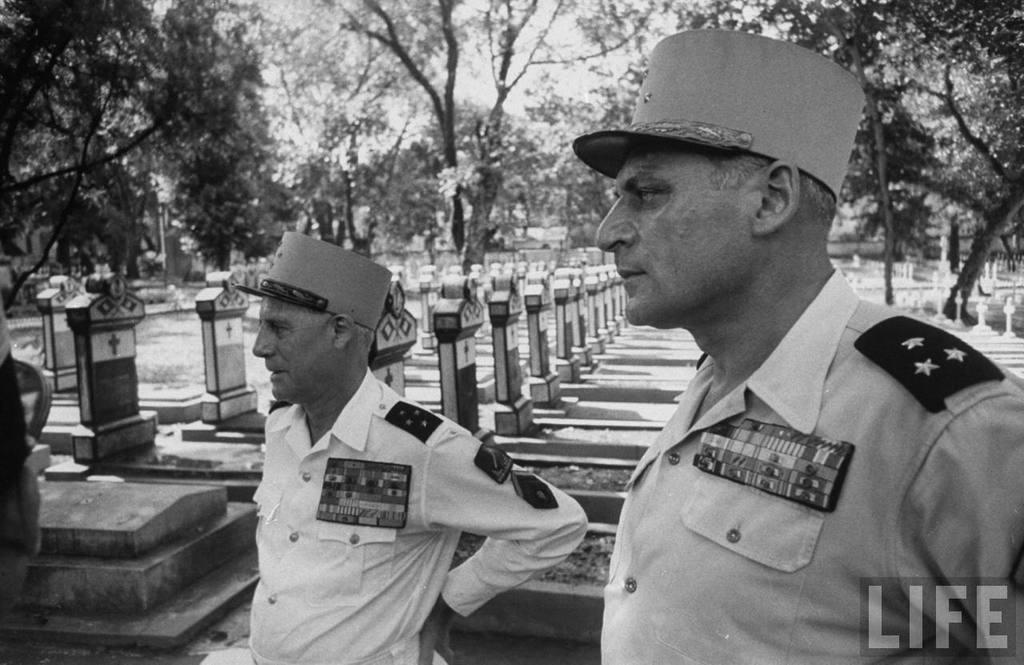Hat: (566, 29, 868, 204), (234, 229, 397, 333)
